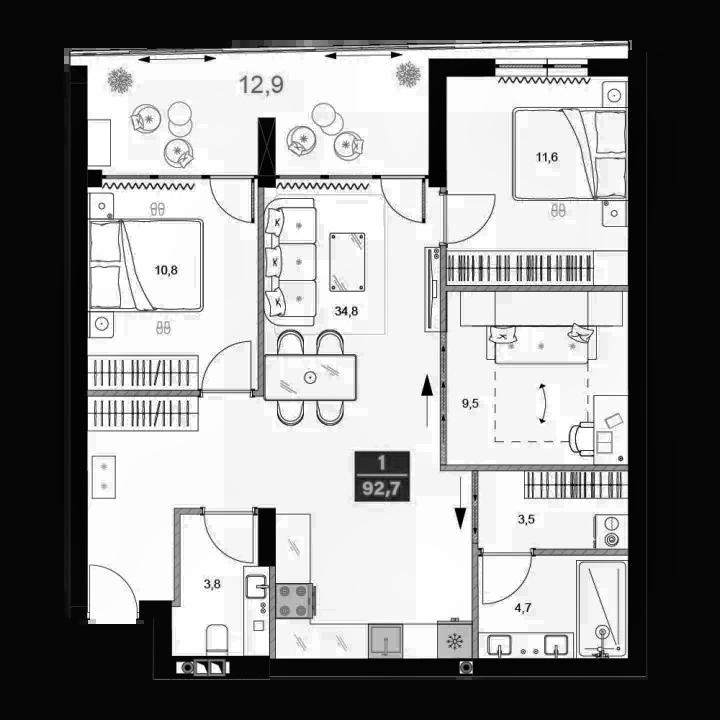door: (479, 545, 539, 607), (198, 338, 256, 399), (199, 504, 257, 564), (437, 190, 496, 247), (88, 562, 139, 623), (377, 171, 429, 225), (206, 173, 258, 226)
window: (494, 55, 548, 78), (549, 56, 589, 77), (156, 171, 204, 184), (104, 171, 155, 183), (326, 171, 375, 183), (277, 171, 324, 183)
